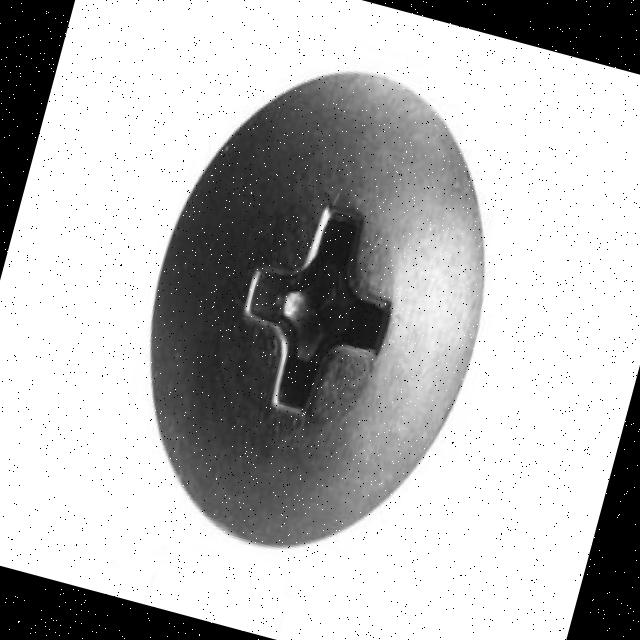Phillips: (100, 29, 536, 588)
